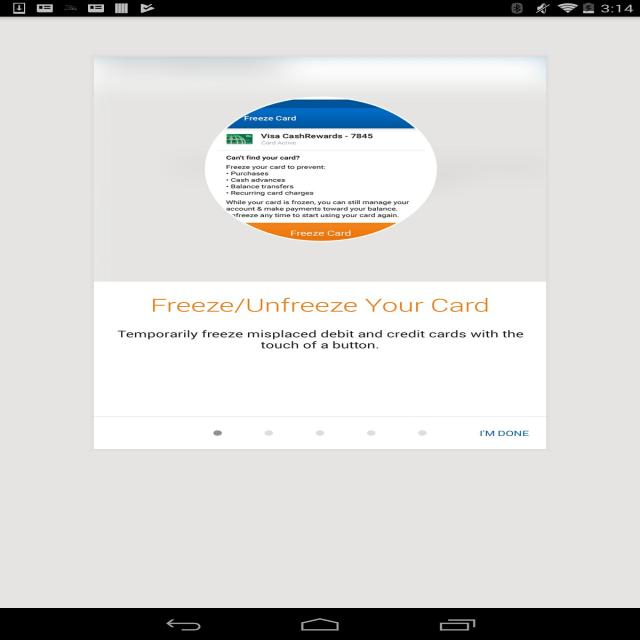button: (476, 425, 534, 442)
heading: (151, 296, 494, 314)
image: (205, 97, 439, 242)
text: (116, 327, 533, 351)
